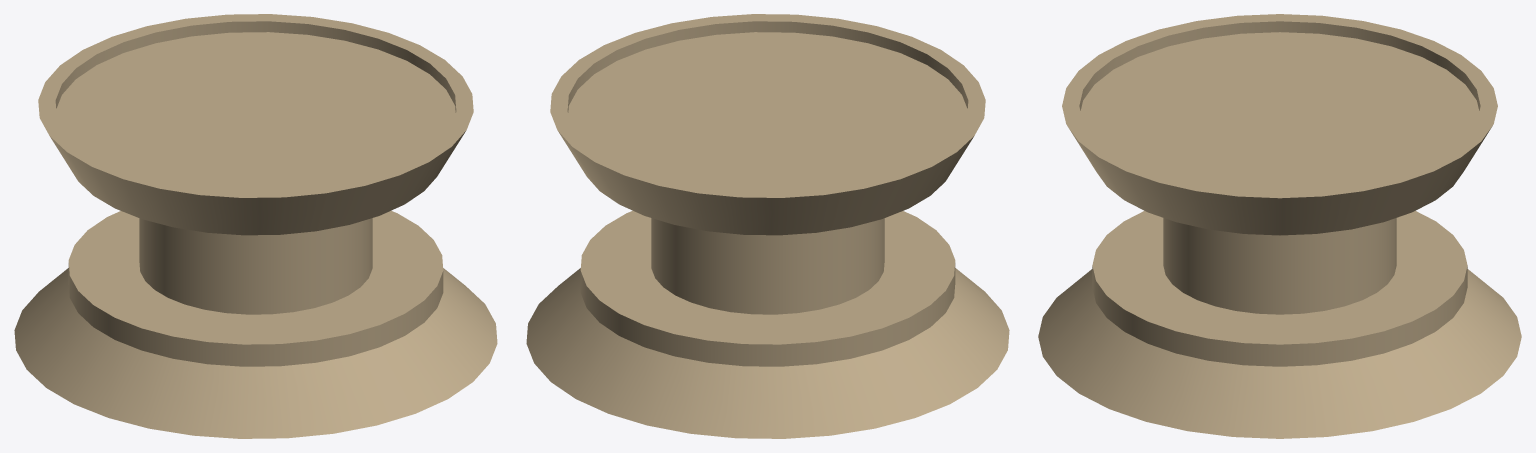
Rendered from desert_stage.fbx.
3 renders of one model, left to right at view 1: azimuth 30°, elevation 25°; view 2: azimuth 150°, elevation 25°; view 3: azimuth 270°, elevation 25°, orthographic.
Visible parts, largest first — view 1: DesertStage; view 2: DesertStage; view 3: DesertStage.
Boxes of the visible parts, box(x1,y1,x2,y2) form: DesertStage: box(14, 14, 497, 438); DesertStage: box(526, 14, 1009, 438); DesertStage: box(1038, 14, 1521, 438).
Bounding box in the file's own units: 200 × 105 × 200.
